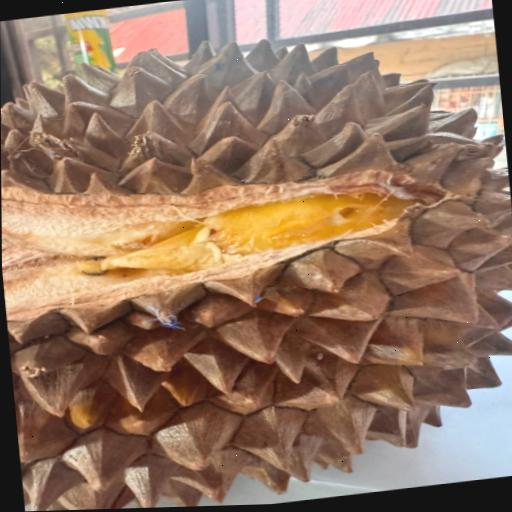rot: (0, 3, 512, 512)
